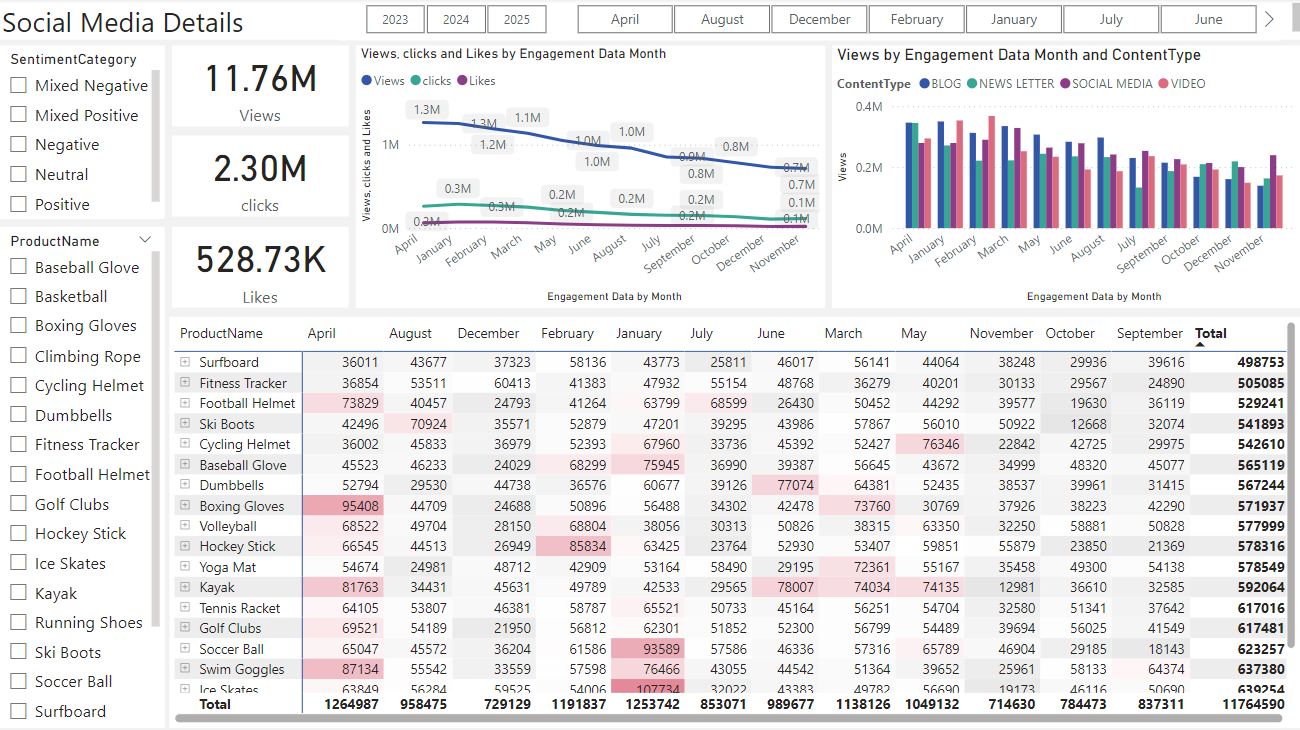

What the dashboard file says about the page in this screenshot:
{"tool":"powerbi","page":{"name":"Social Media Details","canvas":[1280,720],"ordinal":2},"visuals":[{"type":"textbox","box":[0,0,1280.3,41.2],"z":0},{"type":"slicer","fields":{"Values":["dm_products.ProductName"]},"box":[0,223.8,163.9,490.4],"z":1000},{"type":"card","fields":{"Values":["_calculations.Views"]},"box":[171.2,46.5,172.4,79.5],"z":2000},{"type":"card","fields":{"Values":["_calculations.clicks"]},"box":[171.2,135,172.5,79.4],"z":3000},{"type":"card","fields":{"Values":["_calculations.Likes"]},"box":[171.2,223.8,172.5,79.4],"z":4000},{"type":"slicer","fields":{"Values":["fact_engagement_data.EngagementDate.year"]},"box":[335.1,0,226.2,41.6],"z":5000},{"type":"slicer","fields":{"Values":["fact_engagement_data.EngagementData.month"]},"box":[541.7,0,714.1,41.6],"z":6000},{"type":"lineChart","title":"Views, clicks and Likes by Engagement Data Month","fields":{"Category":["fact_engagement_data.EngagementData.month"],"Y":["_calculations.Views","_calculations.clicks","_calculations.Likes"]},"box":[351.1,46.7,458.9,256.7],"z":7000},{"type":"clusteredColumnChart","title":"Views by Engagement Data Month and ContentType","fields":{"Category":["fact_engagement_data.EngagementData.month"],"Series":["fact_engagement_data.ContentType"],"Y":["_calculations.Views"]},"box":[816.7,46.7,458.9,256.7],"z":8000},{"type":"pivotTable","fields":{"Rows":["dm_products.ProductName","fact_engagement_data.ContentType"],"Columns":["fact_engagement_data.EngagementData.month"],"Values":["_calculations.Views"]},"box":[168.8,311.8,1106.7,402.3],"z":9000},{"type":"slicer","fields":{"Values":["fact_customer_reviews_with_sentiment.SentimentCategory"]},"box":[0,46.5,163.9,170],"z":10000}]}

Visuals, with their boxes in screenshot pixels (x1, y1, x2, y2), scaled from the page's 1280x720 canvas onto the 1300x730 screenshot:
textbox: <bbox>0, 0, 1299, 42</bbox>
slicer - dm_products.ProductName: <bbox>0, 227, 166, 724</bbox>
card - _calculations.Views: <bbox>174, 47, 349, 128</bbox>
card - _calculations.clicks: <bbox>174, 137, 349, 217</bbox>
card - _calculations.Likes: <bbox>174, 227, 349, 307</bbox>
slicer - fact_engagement_data.EngagementDate.year: <bbox>340, 0, 570, 42</bbox>
slicer - fact_engagement_data.EngagementData.month: <bbox>550, 0, 1275, 42</bbox>
"Views, clicks and Likes by Engagement Data Month" lineChart: <bbox>357, 47, 823, 308</bbox>
"Views by Engagement Data Month and ContentType" clusteredColumnChart: <bbox>829, 47, 1296, 308</bbox>
pivotTable - dm_products.ProductName x fact_engagement_data.ContentType: <bbox>171, 316, 1295, 724</bbox>
slicer - fact_customer_reviews_with_sentiment.SentimentCategory: <bbox>0, 47, 166, 220</bbox>
